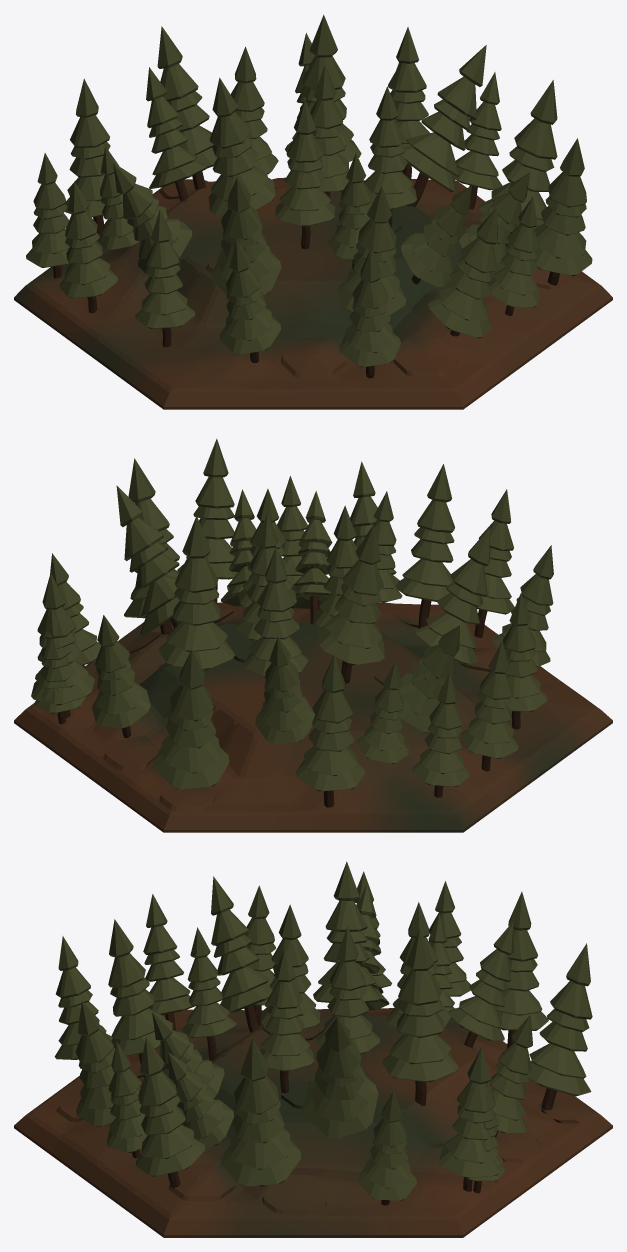
File: temperateRainforest.glb
3 renders of one model, top to bottom at view 1: azimuth 30°, elevation 25°; view 2: azimuth 150°, elevation 25°; view 3: azimuth 270°, elevation 25°, orthographic.
Parts seen in each view (by area): view 1: temperateRainforest; view 2: temperateRainforest; view 3: temperateRainforest.
Part boxes in pixels (x1,y1,x2,y2): temperateRainforest: (14,14,612,409); temperateRainforest: (14,438,612,832); temperateRainforest: (14,861,612,1237).
Size of the model in its own units: 1.73 by 0.8522 by 2.
